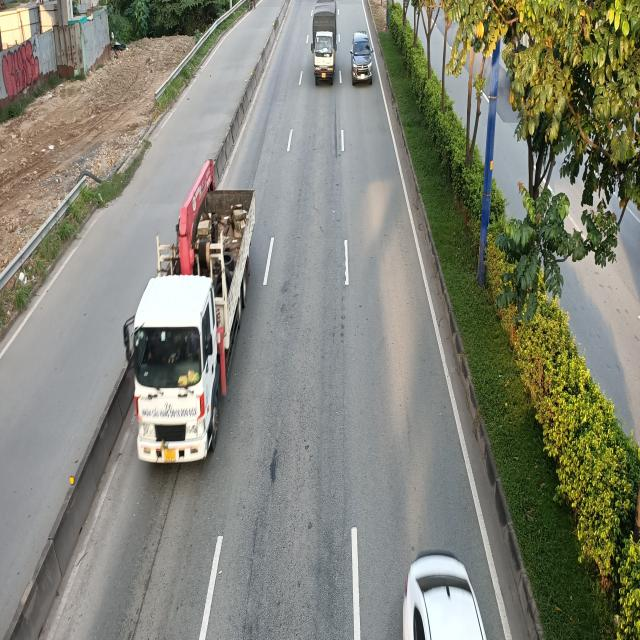car: (350, 33, 374, 87)
truck: (123, 160, 257, 472), (312, 0, 338, 84)
